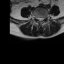CCS_stenosis: (40, 16, 41, 22)
LFS_stenosis: (44, 15, 46, 20)
LLS_normal: (42, 16, 44, 21)
RFS_normal: (36, 15, 38, 20)
RLS_normal: (38, 16, 40, 22)
